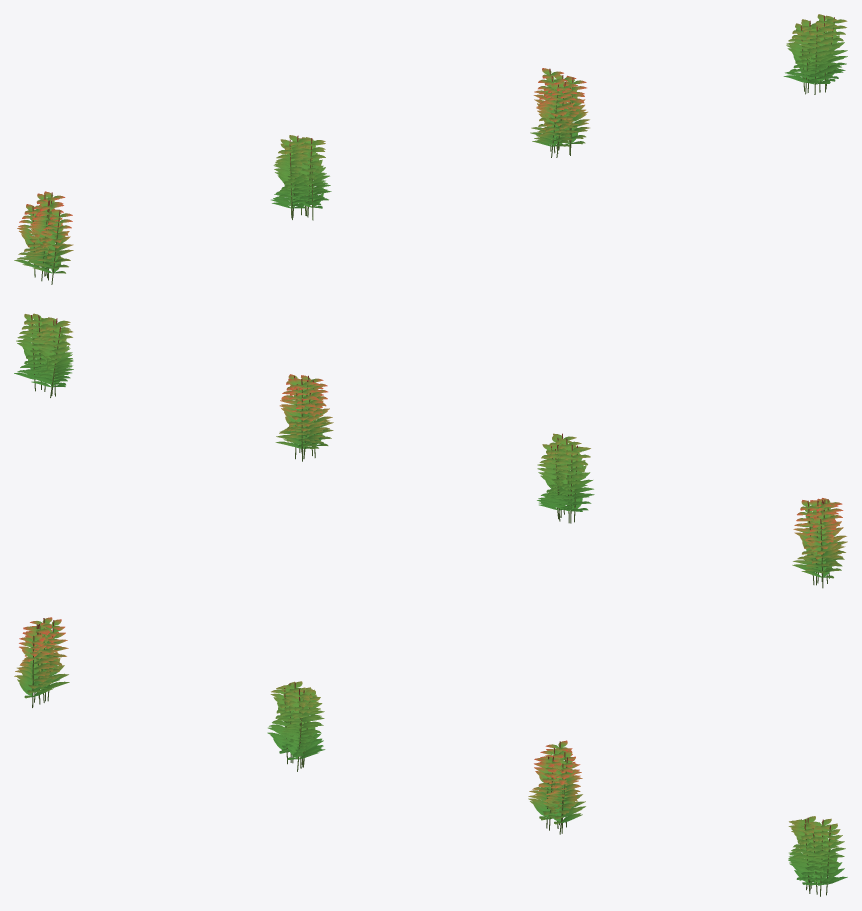
3 views of the same model, one above another, from view 1: azimuth 30°, elevation 25°; view 2: azimuth 150°, elevation 25°; view 3: azimuth 330°, elevation 25° (orthographic).
Parts seen in each view (by area): view 1: rotala.002, rotala.001, rotala.003, rotala; view 2: rotala.003, rotala.001, rotala, rotala.002; view 3: rotala.001, rotala.002, rotala.003, rotala.
Boxes of the visible parts, left/top/right/bottom form: rotala.002: left=530, top=68, right=589, bottom=157; rotala.001: left=271, top=135, right=331, bottom=220; rotala.003: left=783, top=14, right=847, bottom=94; rotala: left=14, top=191, right=73, bottom=284; rotala.003: left=14, top=313, right=73, bottom=397; rotala.001: left=537, top=433, right=594, bottom=523; rotala: left=792, top=498, right=847, bottom=588; rotala.002: left=275, top=374, right=333, bottom=461; rotala.001: left=267, top=681, right=325, bottom=771; rotala.002: left=528, top=740, right=585, bottom=834; rotala.003: left=788, top=816, right=847, bottom=896; rotala: left=14, top=617, right=69, bottom=707.
Size of the model in its own units: 9.56 by 0.9244 by 0.658.
Materials: 1 (1 with a texture image).
